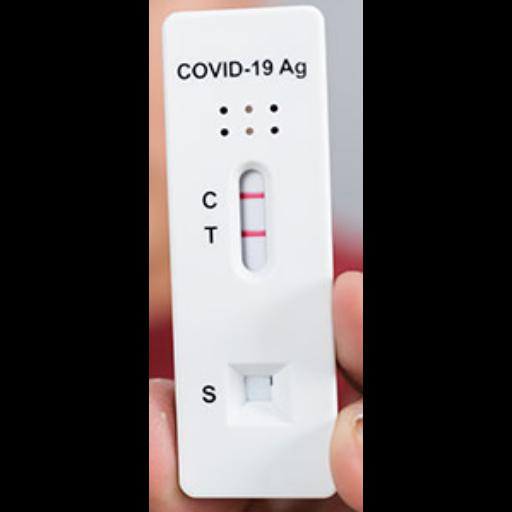Pos: (162, 10, 336, 498)
